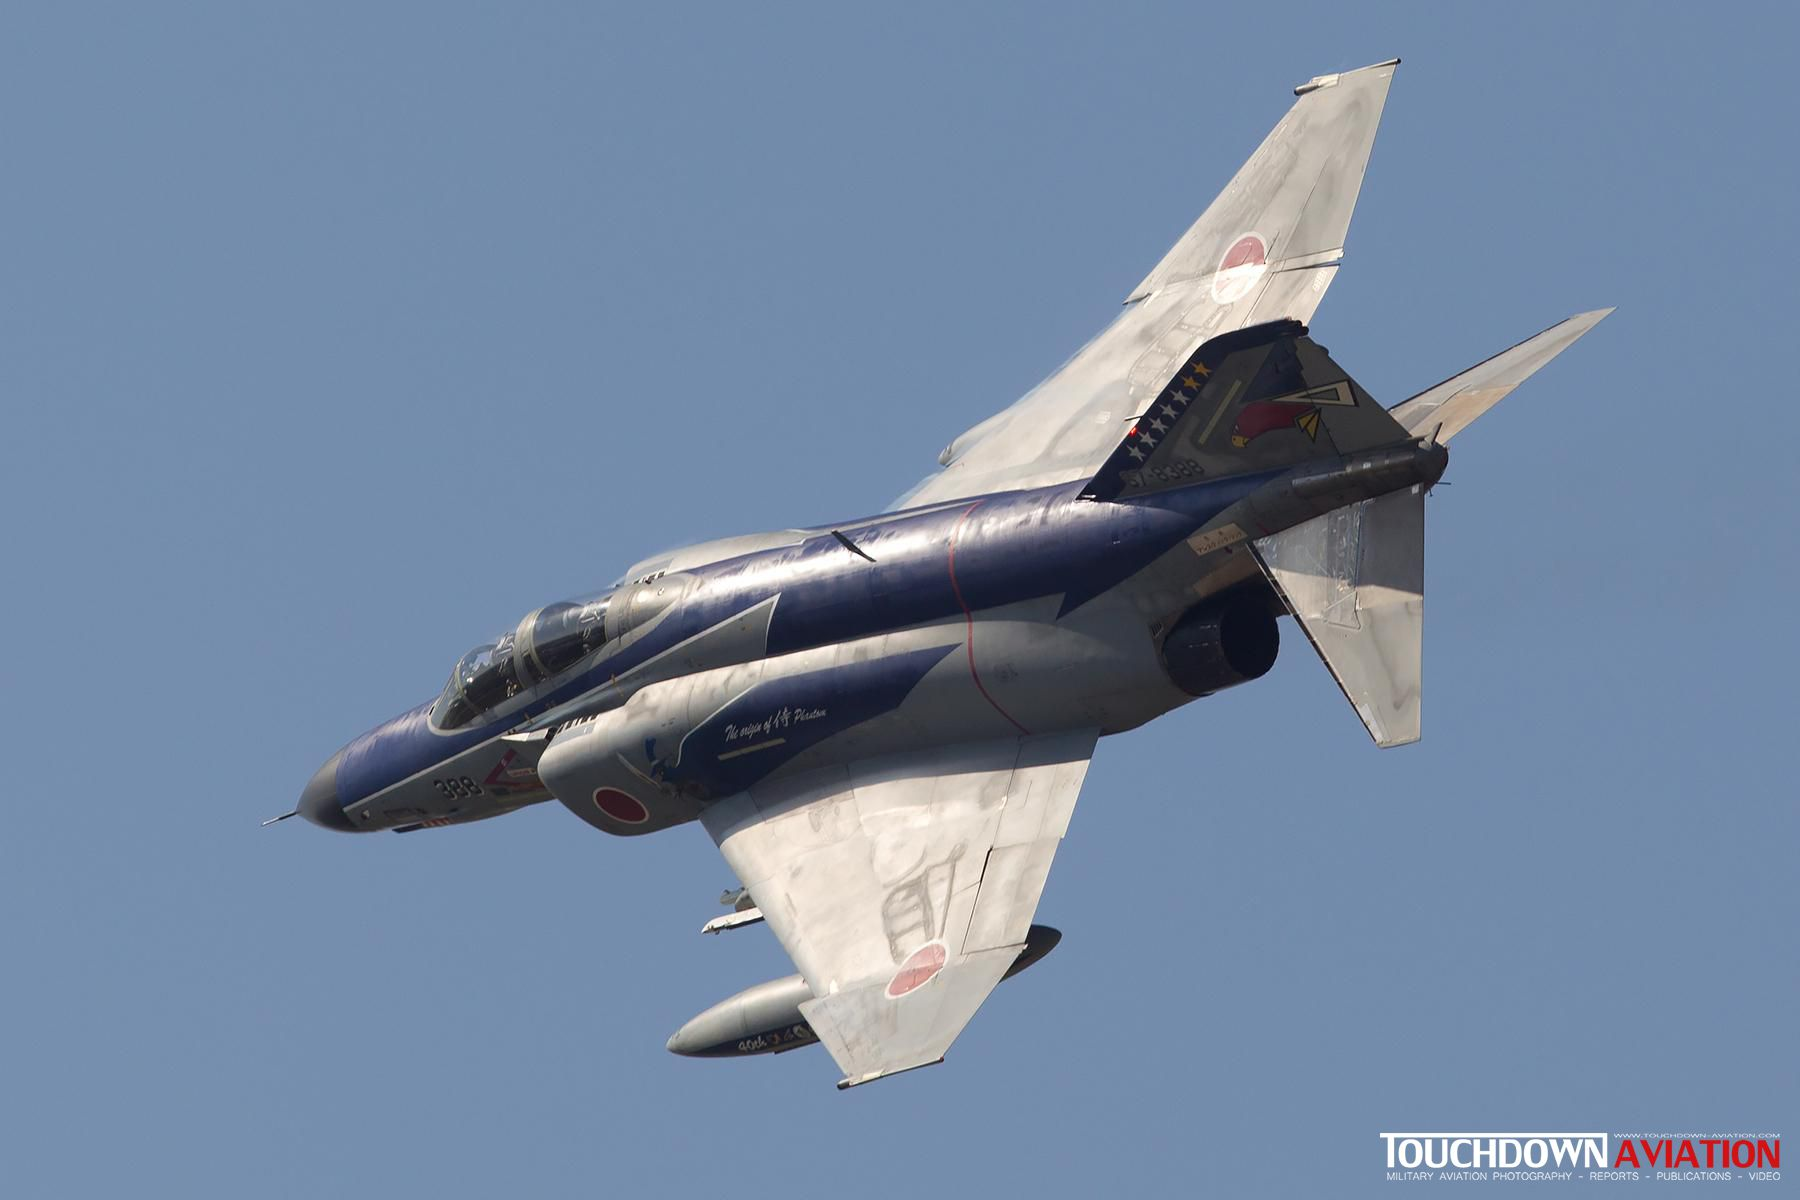F4: (260, 56, 1619, 1092)
